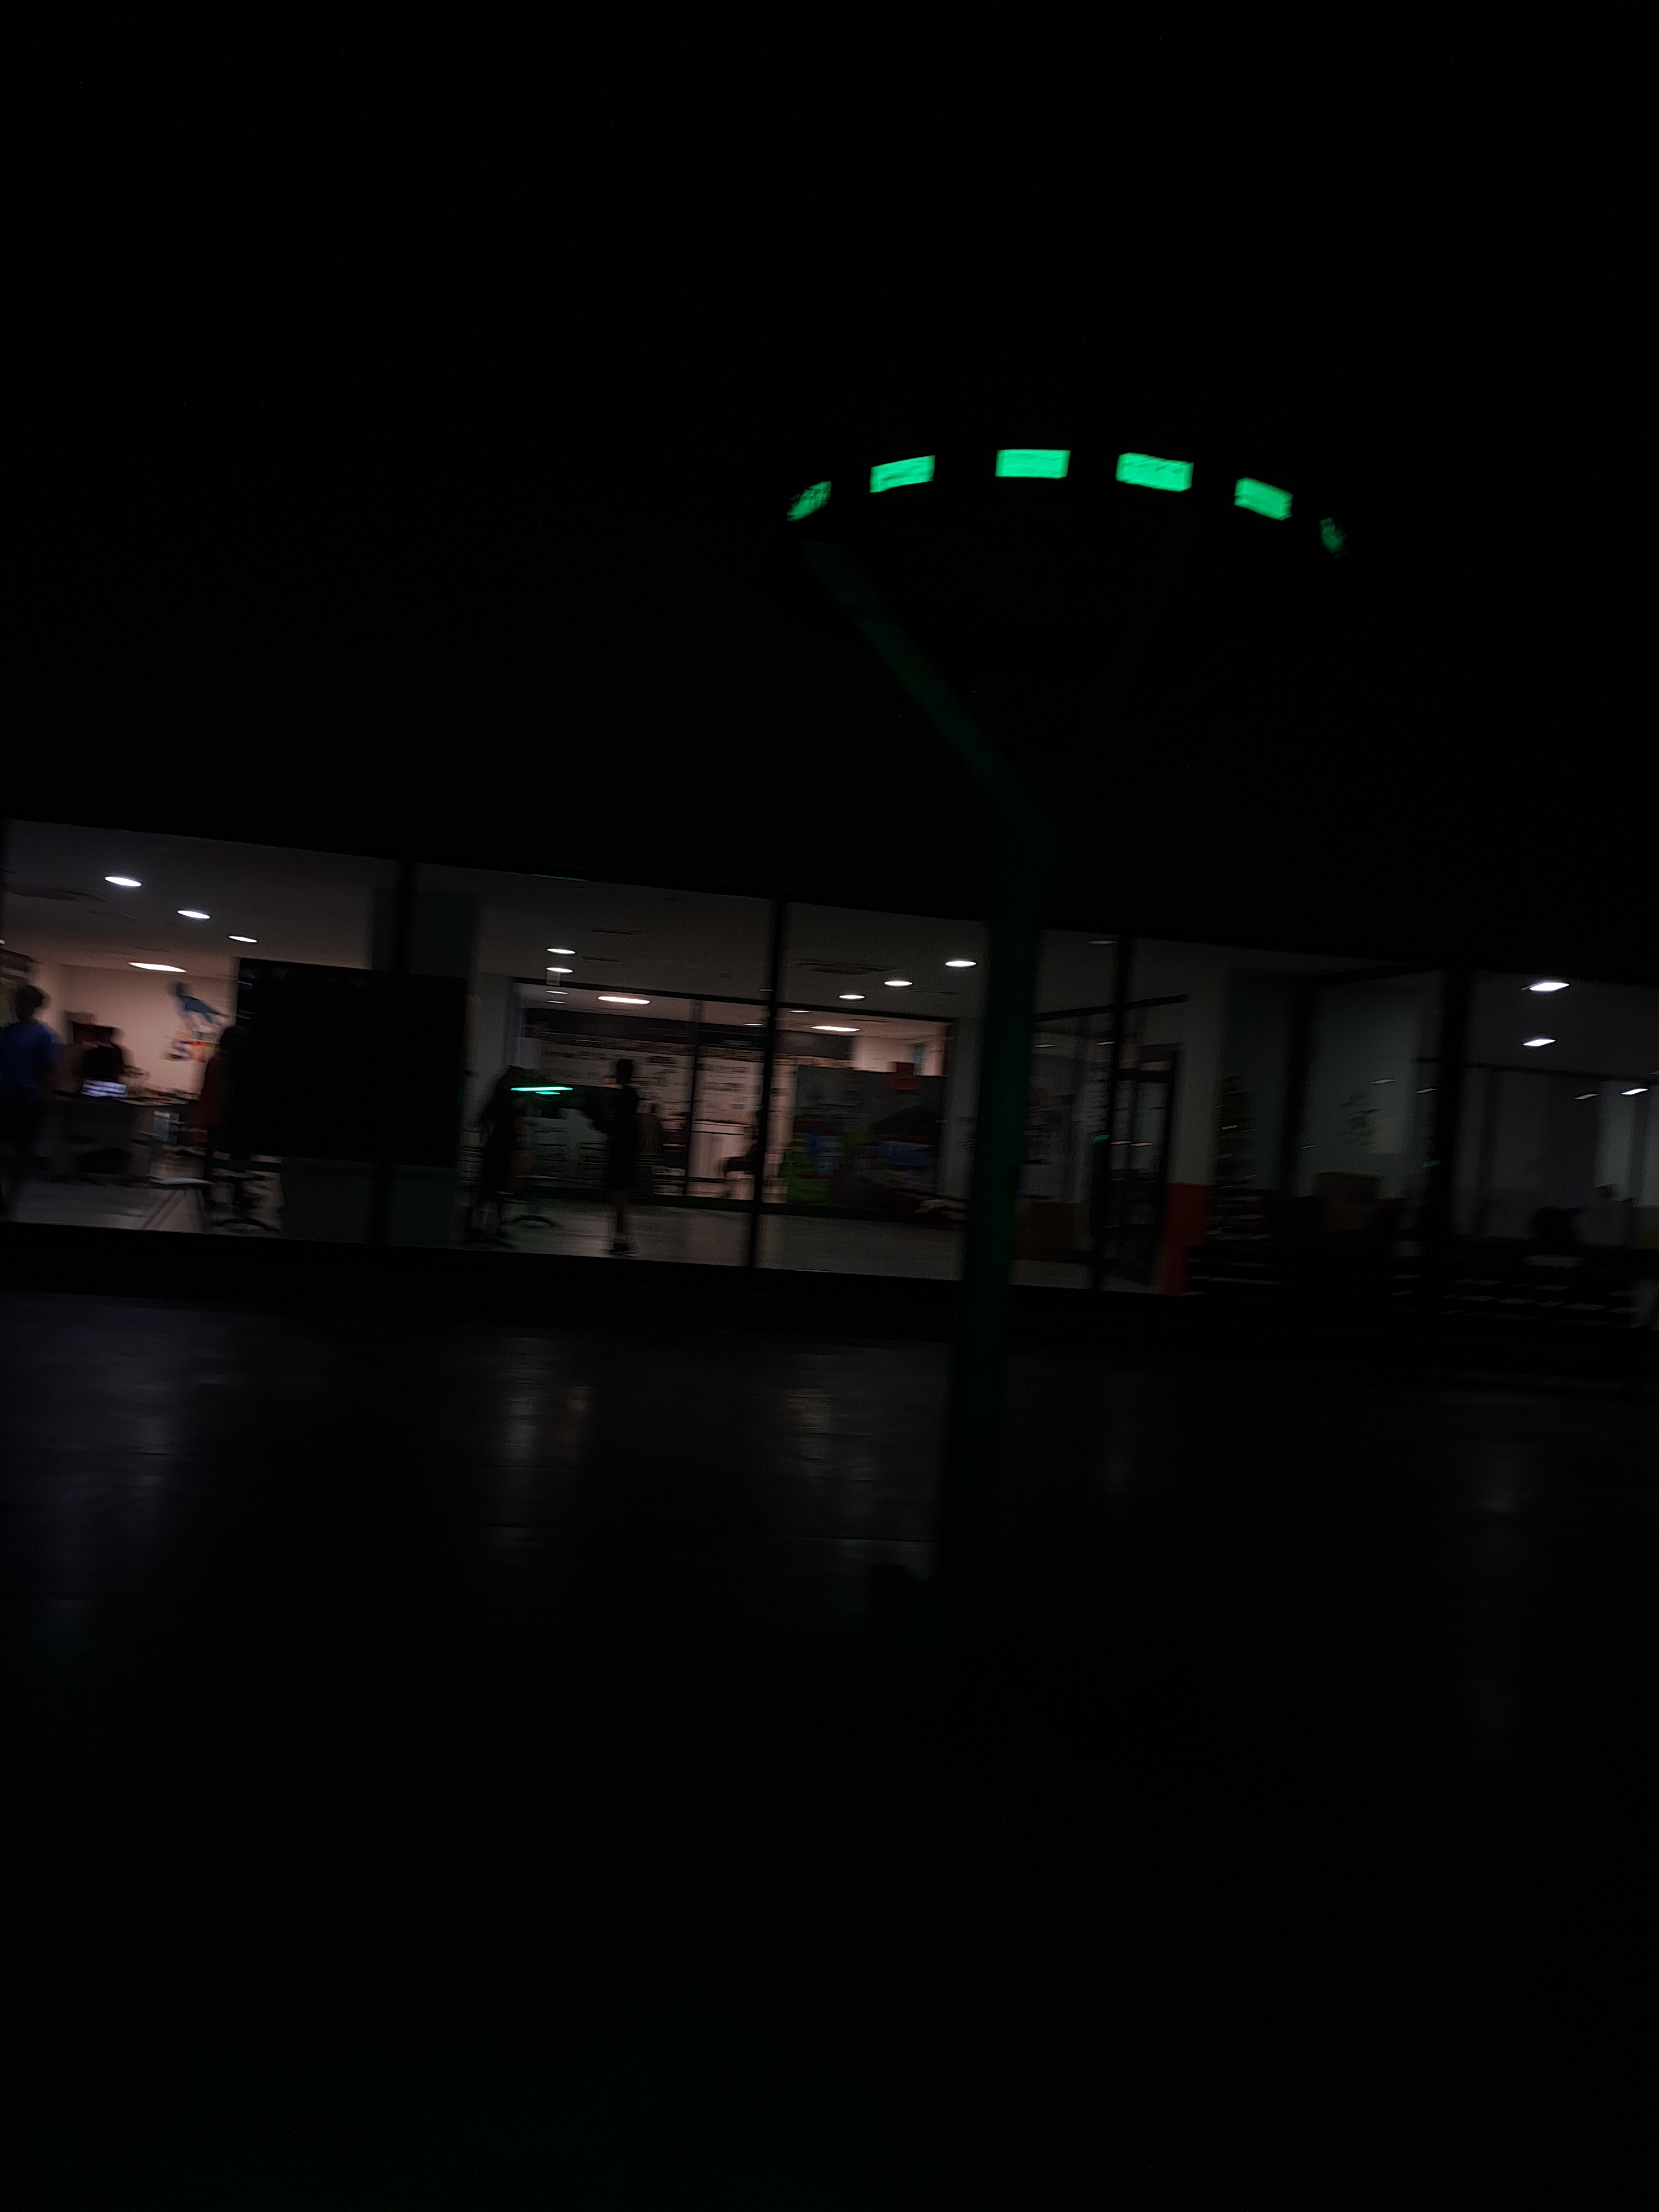hoop: (781, 439, 1351, 564)
